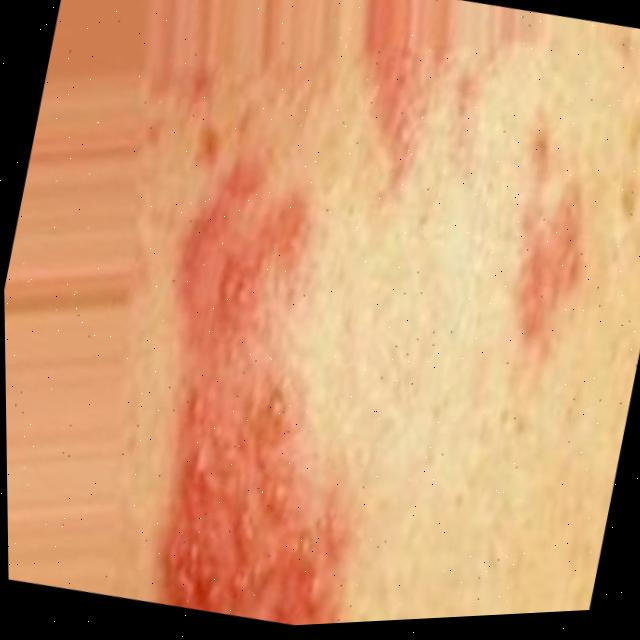Shingles: (102, 136, 435, 635), (475, 117, 610, 369), (335, 22, 505, 210)
